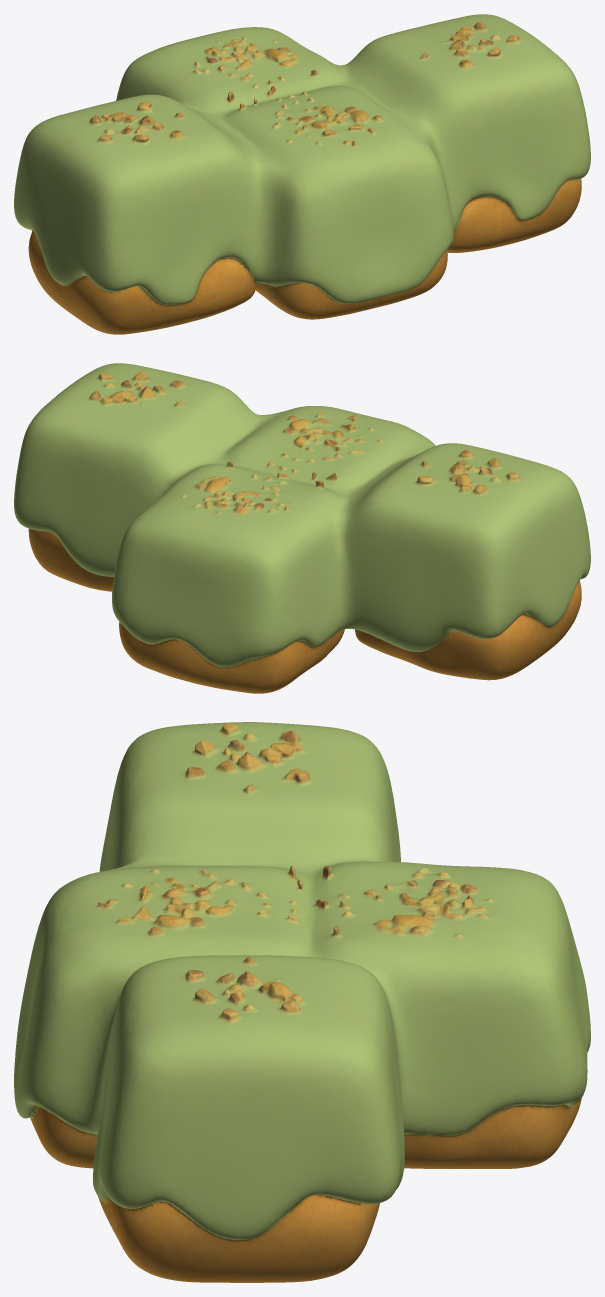
Rendered from pistachio-glow.glb.
3 renders of one model, top to bottom at view 1: azimuth 30°, elevation 25°; view 2: azimuth 150°, elevation 25°; view 3: azimuth 270°, elevation 25°, orthographic. The views are drawn at different scales.
Size of the model in its own units: 1.9 by 0.663 by 1.31.
1 material, 1 textured.
